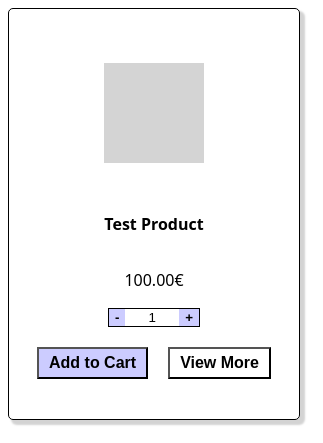
Scenario: renders product Card correctly › increases quantity
Click the button "+": (189, 318) [179,309,199,326]
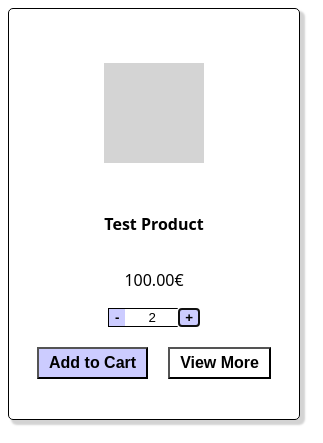
Click the button "+": (189, 318) [179,309,199,326]
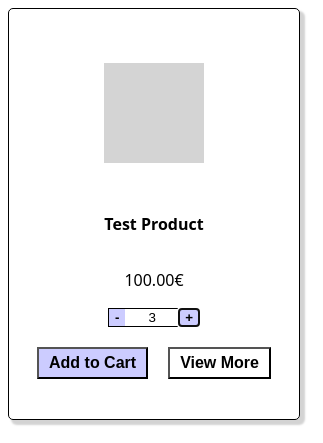
Click the button "+": (189, 318) [179,309,199,326]
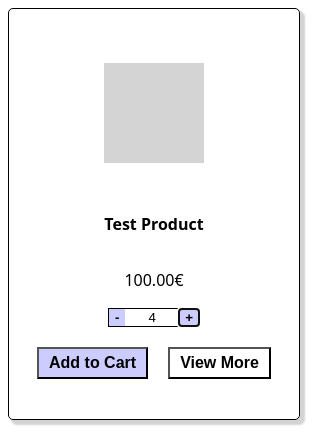
Expected: the field holds "4", [125,309,179,326]
